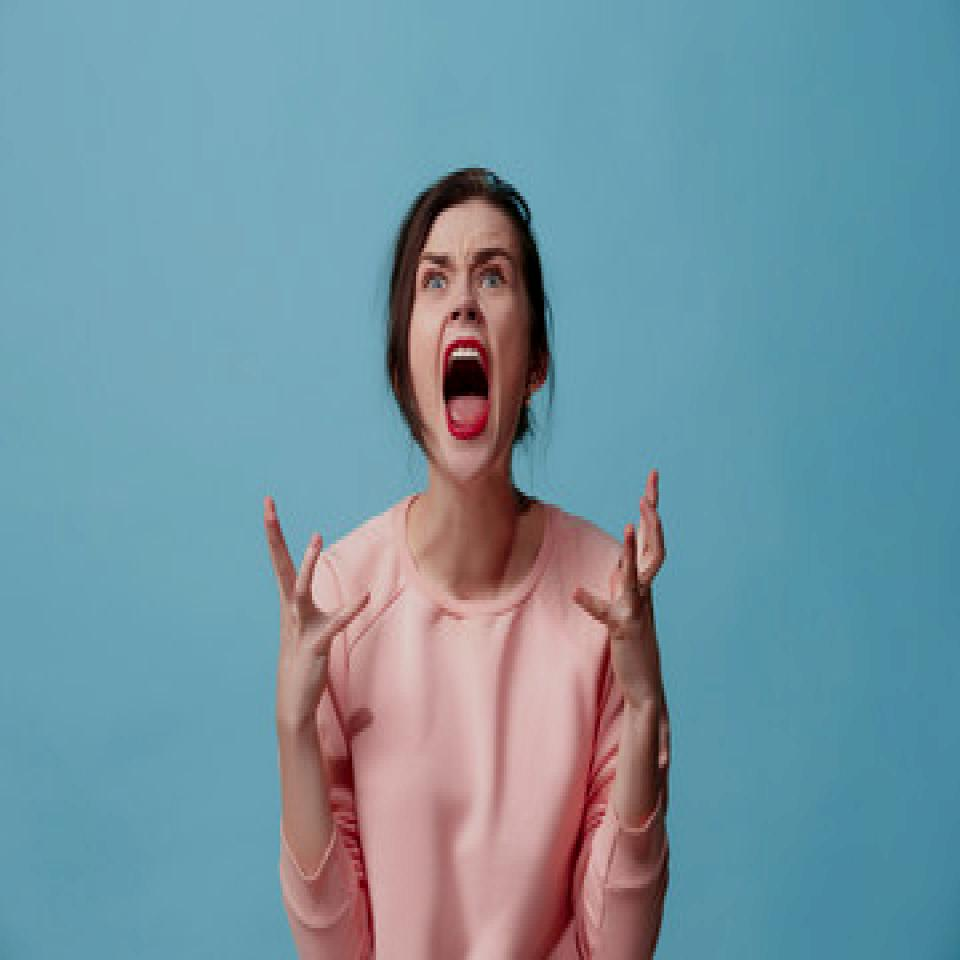Anger: (394, 231, 534, 482)
